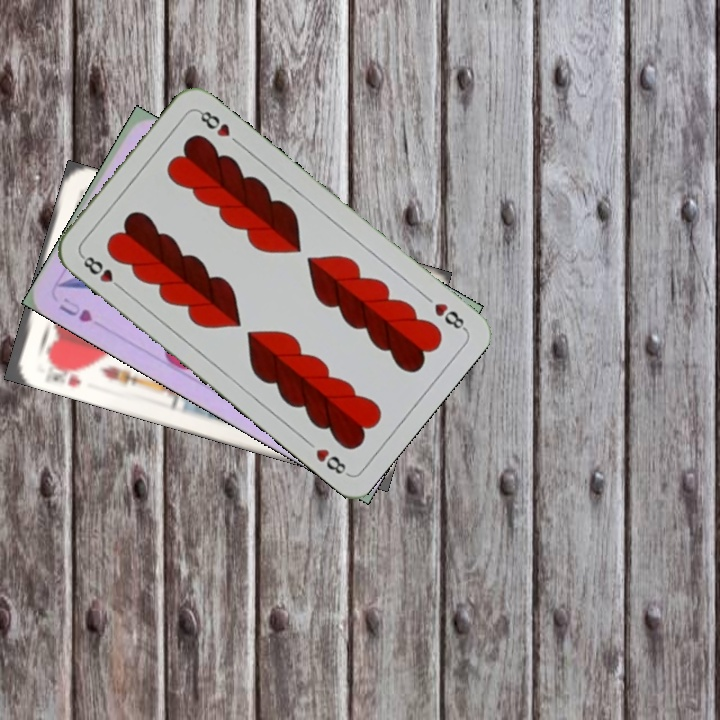H8: (77, 251, 126, 293), (430, 298, 469, 333)
HK: (43, 355, 87, 390)
HU: (54, 293, 96, 325)
